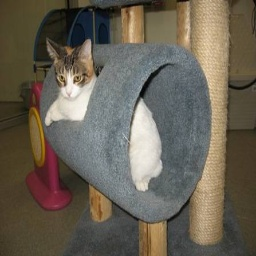cat: (36, 40, 171, 201)
